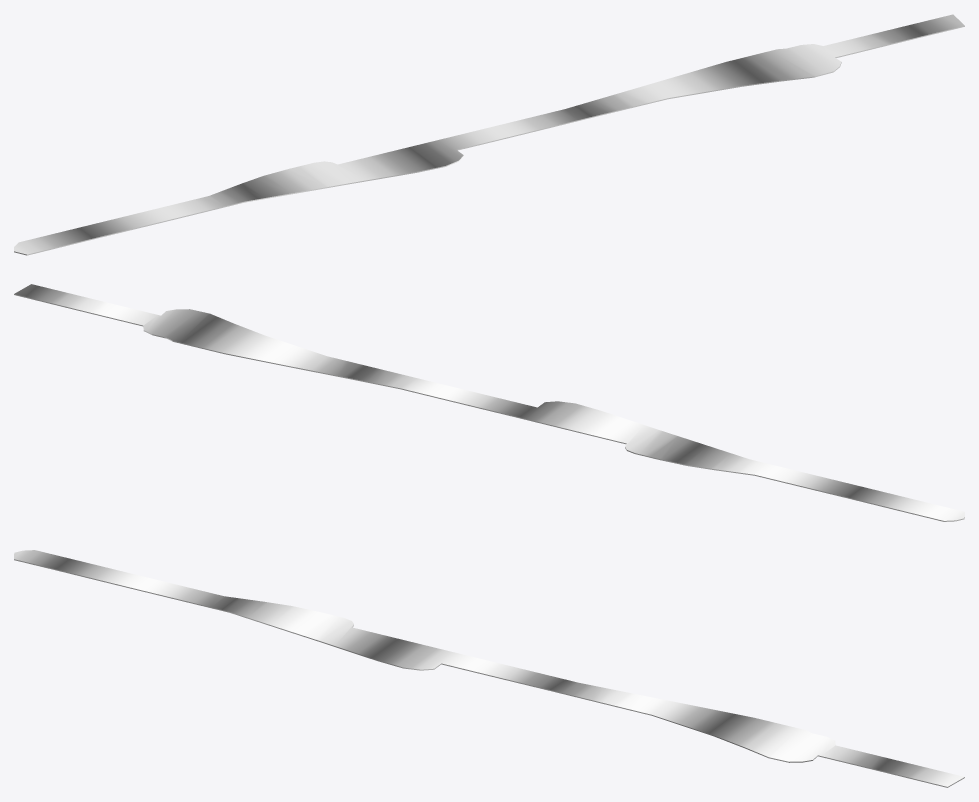
The model's file is Level 61 spiderman unroll webshot.fbx.
The picture shows the model from 3 angles, top to bottom: view 1: azimuth 30°, elevation 25°; view 2: azimuth 150°, elevation 25°; view 3: azimuth 330°, elevation 25°; orthographic projection.
Parts seen in each view (by area): view 1: Blend; view 2: Blend; view 3: Blend.
Boxes of the visible parts, x1,y1,x2,y2 form: Blend: (14,14,964,255); Blend: (14,284,964,521); Blend: (14,550,964,787).
Size of what is drawn, in the model's own units: 976 by 1 by 66.51.
